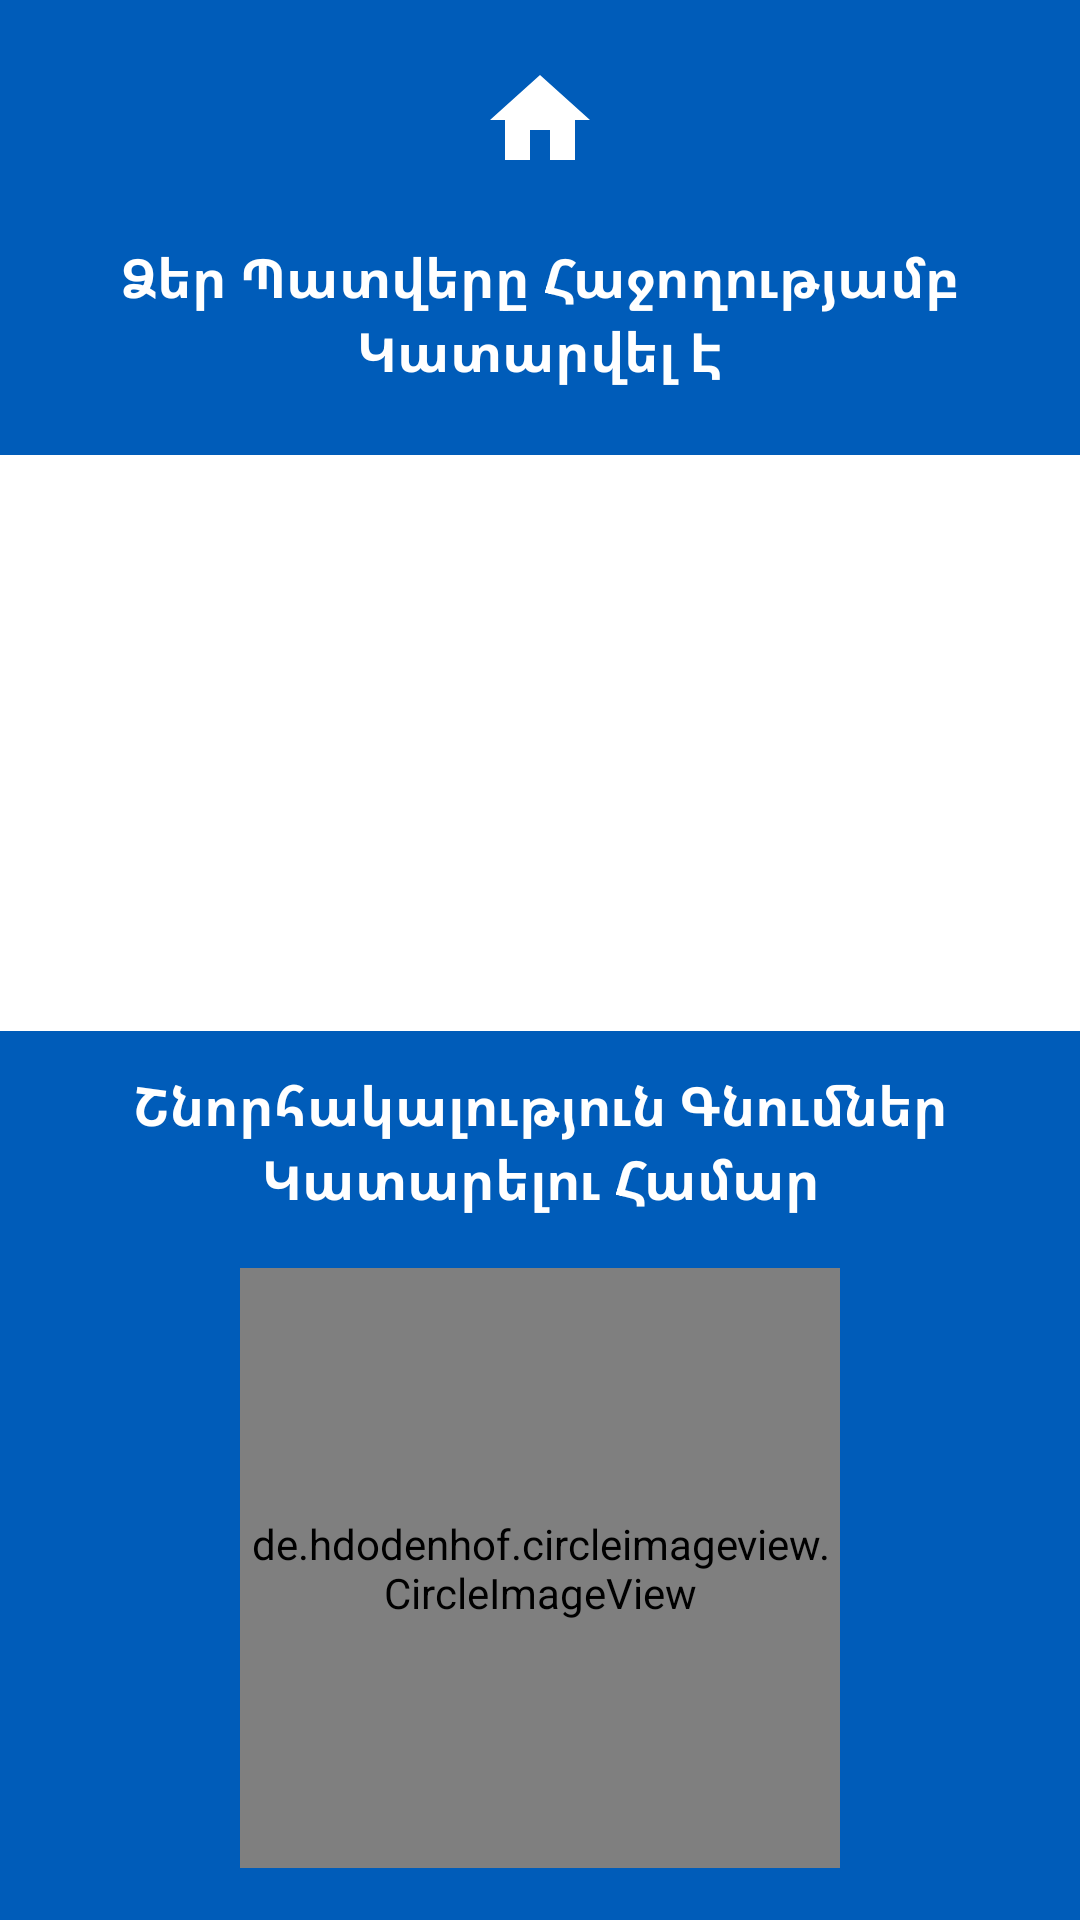

Icons on this 1080*1920 Android screen, each with its box as (x1, y1, x2, y2):
home: (490, 75, 590, 160)
